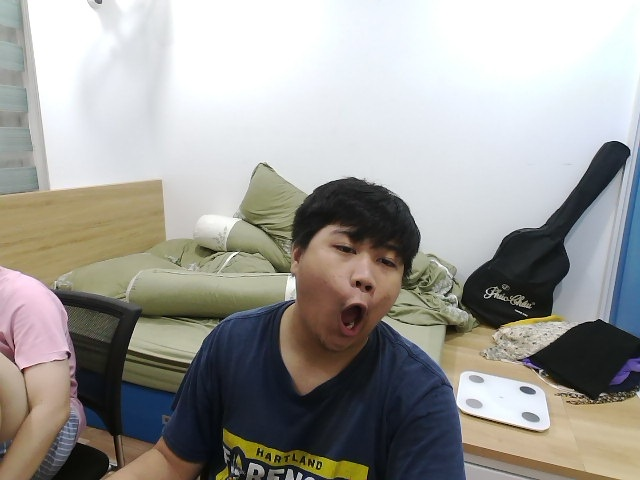face: (289, 178, 422, 350)
